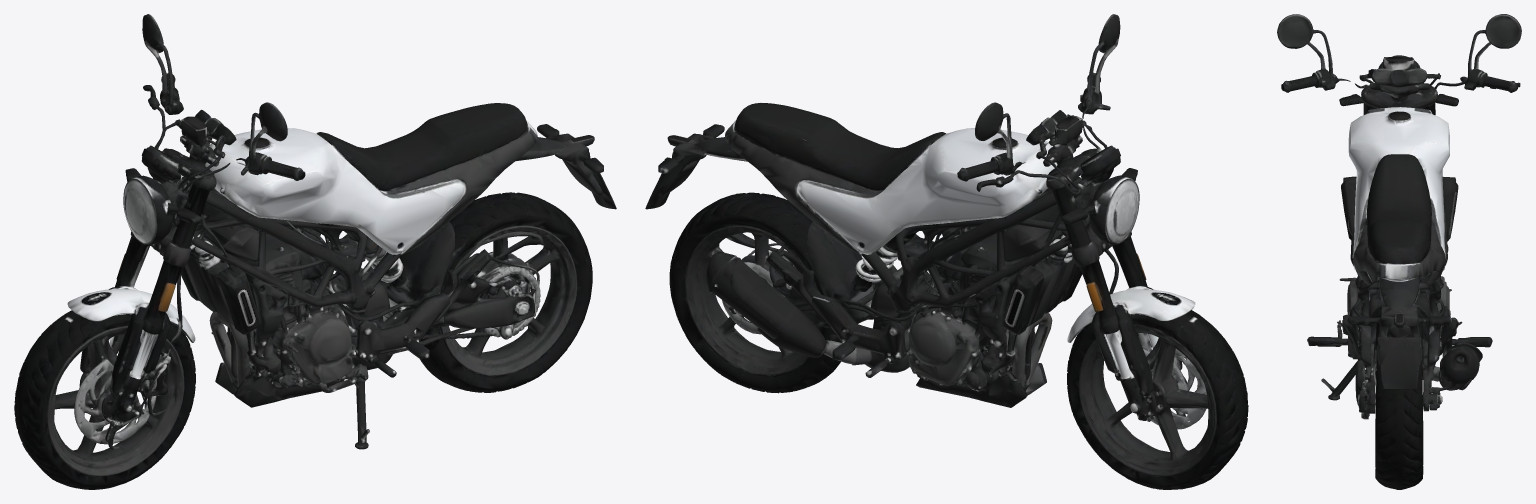
Rendered from rota-160.glb.
3 renders of one model, left to right at view 1: azimuth 30°, elevation 25°; view 2: azimuth 150°, elevation 25°; view 3: azimuth 270°, elevation 25°, orthographic. The views are drawn at different scales.
Size of the model in its own units: 1.9 by 1.23 by 0.7908.
1 material, 1 textured.
